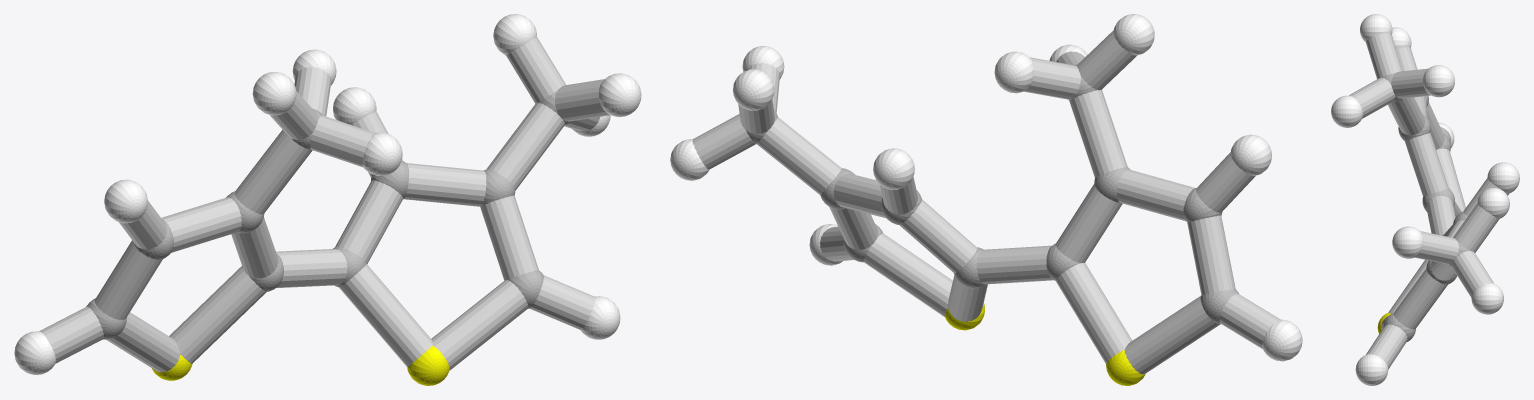
The model's file is Methylthiophene_Phi_25_Theta_130_Methylthiophene.glb.
3 views of the same model, side by side, from view 1: azimuth 30°, elevation 25°; view 2: azimuth 150°, elevation 25°; view 3: azimuth 270°, elevation 25° (orthographic). The views are drawn at different scales.
Parts seen in each view (by area): view 1: grp7965, grp3621, grp1, grp7241; view 2: grp7965, grp3621, grp1, grp7241; view 3: grp7965, grp3621, grp1.
Boxes of the visible parts, bbox=[...] form: grp7965: bbox=[39, 37, 609, 372]; grp3621: bbox=[14, 14, 641, 374]; grp1: bbox=[86, 91, 571, 339]; grp7241: bbox=[152, 345, 449, 385]; grp7965: bbox=[692, 30, 1280, 374]; grp3621: bbox=[670, 14, 1302, 361]; grp1: bbox=[745, 64, 1238, 324]; grp7241: bbox=[944, 303, 1145, 385]; grp7965: bbox=[1349, 33, 1509, 369]; grp3621: bbox=[1331, 14, 1519, 385]; grp1: bbox=[1382, 73, 1469, 341].
Size of the model in its own units: 9.85 by 5.42 by 3.48.
